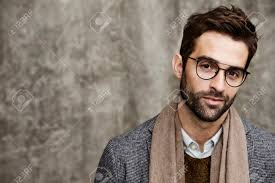Glasses: (192, 53, 255, 93)
